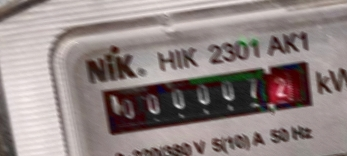0: (118, 94, 135, 120), (194, 81, 211, 106), (219, 77, 235, 101), (170, 85, 185, 110), (144, 91, 160, 114)
2: (272, 74, 288, 98)
7: (245, 74, 260, 99)
screen: (90, 49, 323, 144)
